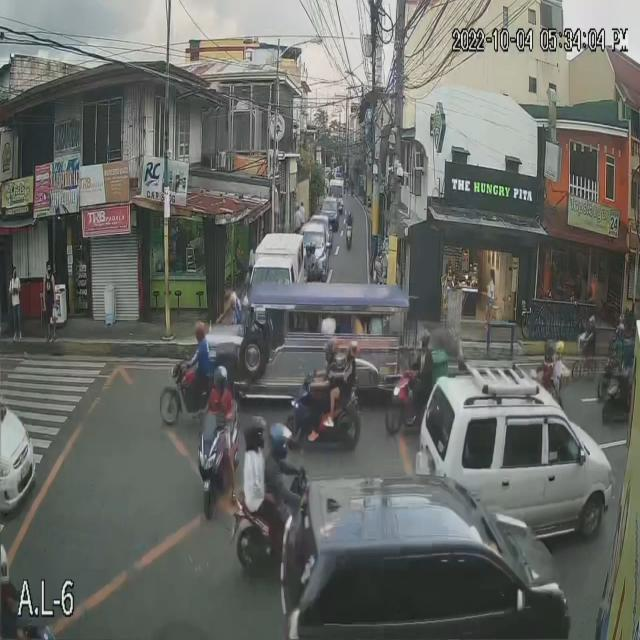Full-Faced: (263, 416, 290, 460), (242, 412, 263, 449), (208, 363, 228, 396), (320, 338, 340, 366), (190, 316, 207, 347), (418, 327, 430, 353), (542, 338, 556, 360), (554, 337, 564, 366), (304, 240, 313, 259), (346, 206, 353, 222)
Invalid: (341, 338, 358, 362)
